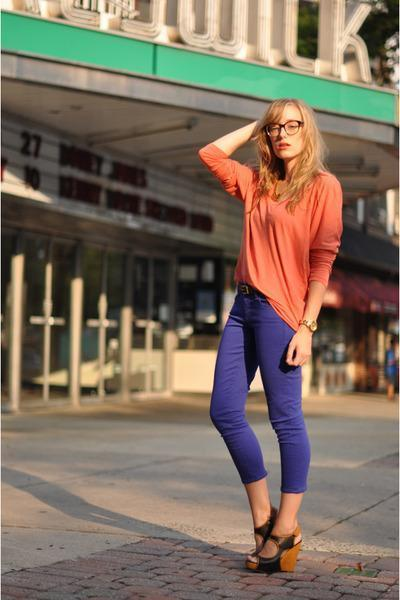pants: (210, 283, 309, 493)
shirt: (199, 143, 342, 323)
shoe: (252, 516, 301, 576)
